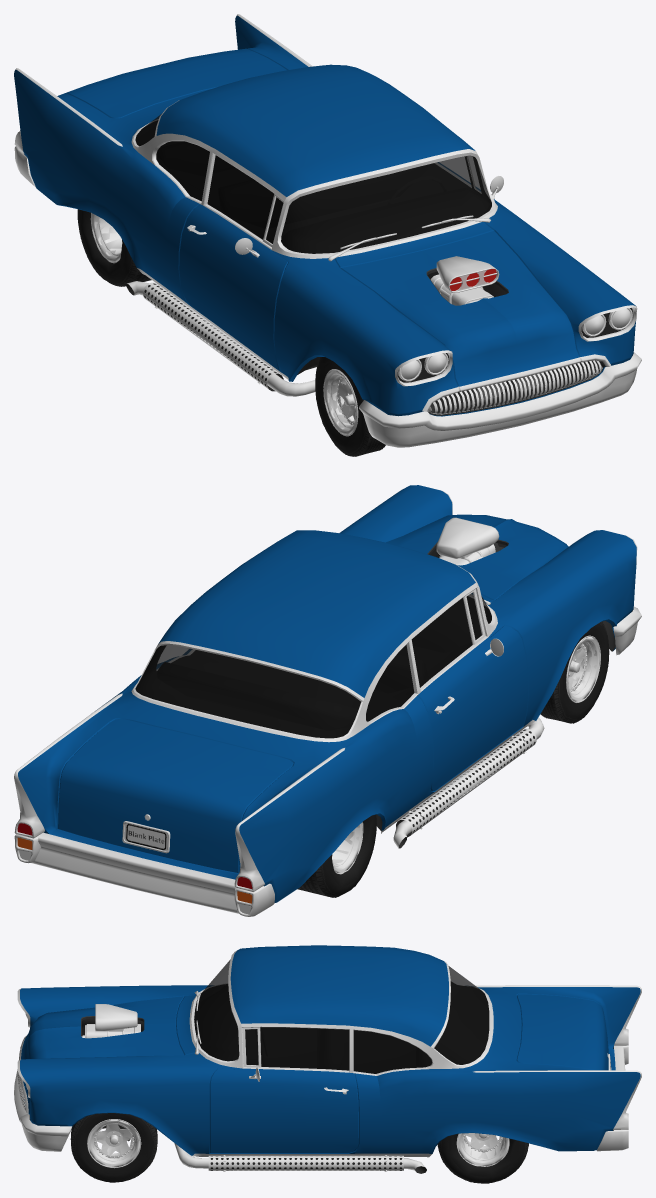
Rendered from HotRod.fbx.
3 renders of one model, top to bottom at view 1: azimuth 30°, elevation 25°; view 2: azimuth 150°, elevation 25°; view 3: azimuth 270°, elevation 25°, orthographic. The views are drawn at different scales.
Visible parts, largest first — view 1: HotRod, B_FRWheel, B_FRWheel_LOD, B_RRWheel_LOD, B_RRWheel; view 2: HotRod, B_FRWheel, B_FRWheel_LOD, B_RRWheel_LOD, B_RRWheel, B_Plate; view 3: HotRod, B_FLWheel, B_FLWheel_LOD, B_RLWheel, B_RLWheel_LOD.
Boxes of the visible parts, <box> form: HotRod: <box>14,14,641,447</box>; B_FRWheel: <box>315,357,385,456</box>; B_FRWheel_LOD: <box>315,357,382,456</box>; B_RRWheel_LOD: <box>77,210,151,286</box>; B_RRWheel: <box>77,209,150,286</box>; HotRod: <box>14,485,641,916</box>; B_FRWheel: <box>540,621,609,723</box>; B_FRWheel_LOD: <box>541,621,609,723</box>; B_RRWheel_LOD: <box>298,814,376,897</box>; B_RRWheel: <box>297,815,376,897</box>; B_Plate: <box>122,821,170,853</box>; HotRod: <box>14,945,641,1173</box>; B_FLWheel: <box>71,1113,157,1182</box>; B_FLWheel_LOD: <box>70,1113,157,1182</box>; B_RLWheel: <box>438,1133,528,1183</box>; B_RLWheel_LOD: <box>437,1133,528,1183</box>.
Size of what is drawn, in the model's own units: 202 by 149 by 506.
